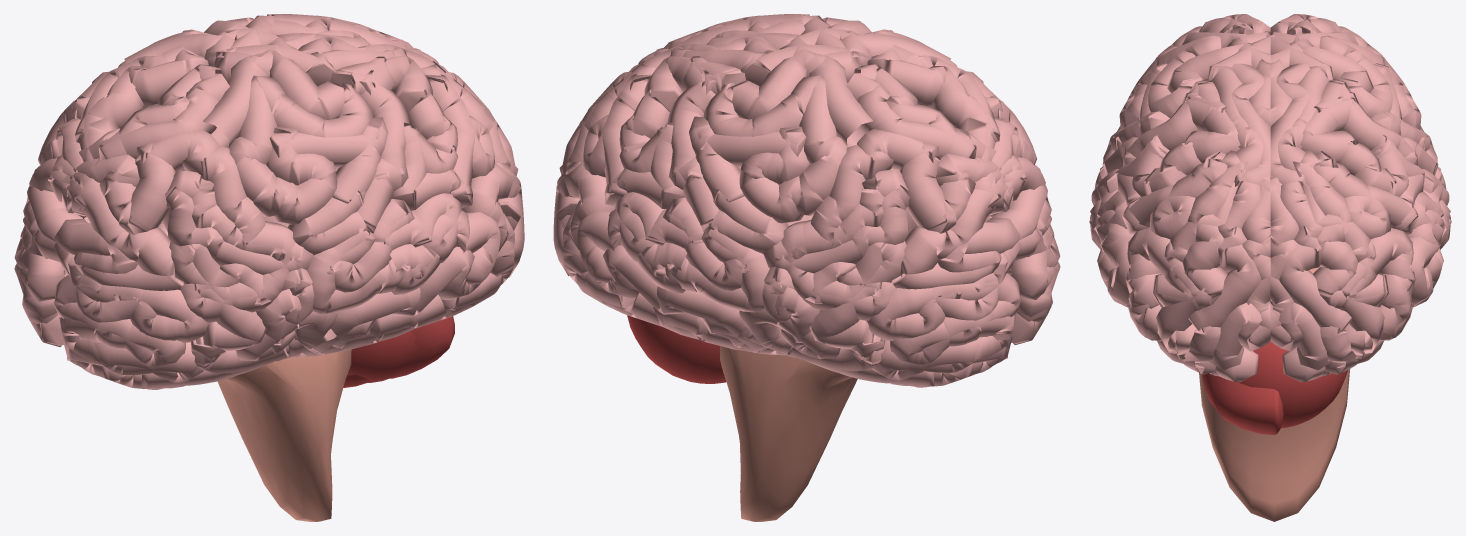
The model's file is brain.fbx.
3 views of the same model, side by side, from view 1: azimuth 30°, elevation 25°; view 2: azimuth 150°, elevation 25°; view 3: azimuth 270°, elevation 25° (orthographic). The views are drawn at different scales.
Parts seen in each view (by area): view 1: flesh2Main, flesh1Main, pSphere5, flesh1Main1, flesh3Main, flesh5Main, flesh5Main1, pSphere6 (×2), flesh3Main1, flesh2Main1, flesh4Main; view 2: flesh2Main1, flesh1Main1, pSphere5, flesh1Main, flesh3Main1, flesh5Main1, flesh5Main, flesh3Main, pSphere6, flesh2Main, flesh4Main1; view 3: flesh2Main, flesh2Main1, flesh3Main, flesh3Main1, pSphere5, pSphere6 (×2), flesh4Main, flesh4Main1, flesh5Main, flesh5Main1.
Part boxes in pixels (x1,y1,x2,y2): flesh2Main: (203,50,522,354); flesh1Main: (53,129,337,388); pSphere5: (217,349,351,521); flesh1Main1: (14,71,168,347); flesh3Main: (214,33,524,277); flesh5Main: (79,64,229,161); flesh5Main1: (75,45,208,161); pSphere6 (×2): (343,316,454,387); flesh3Main1: (204,15,439,65); flesh2Main1: (118,14,413,171); flesh4Main: (141,286,499,389); flesh2Main1: (555,50,872,352); flesh1Main1: (739,129,1021,386); pSphere5: (720,346,857,521); flesh1Main: (966,71,1060,344); flesh3Main1: (553,33,861,275); flesh5Main1: (846,64,996,160); flesh5Main: (867,44,1000,160); flesh3Main: (638,15,871,65); pSphere6: (627,315,726,383); flesh2Main: (663,14,957,170); flesh4Main1: (577,284,934,387); flesh2Main: (1089,32,1249,341); flesh2Main1: (1291,32,1451,341); flesh3Main: (1156,31,1293,370); flesh3Main1: (1247,31,1384,370); pSphere5: (1199,266,1349,521); pSphere6 (×2): (1202,341,1347,434); flesh4Main: (1157,341,1258,382); flesh4Main1: (1282,341,1383,382); flesh5Main: (1199,14,1270,34); flesh5Main1: (1270,14,1341,34).
Size of the model in its own units: 6.19 by 6.54 by 4.75.
